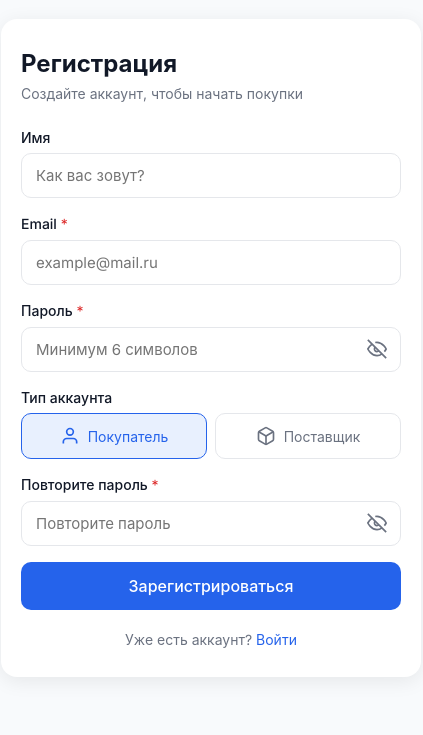
Register.vue › показывает ошибку при неудачной регистрации
Step 1. Type "test@example.com" into the field with test id "register-email" → (211, 262), box [21,240,401,285]
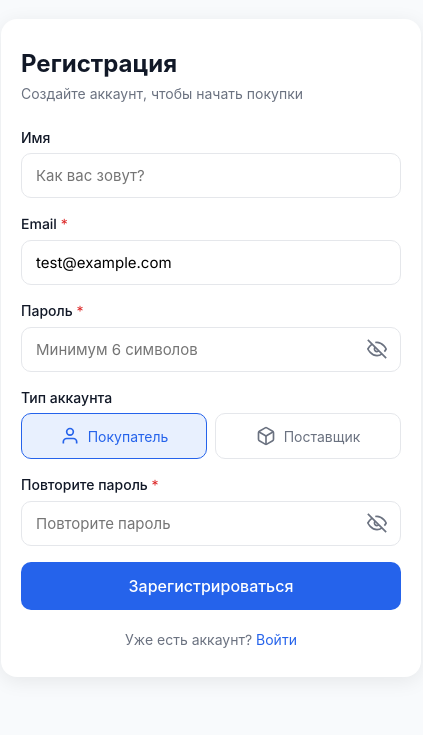
Step 2. Type "password123" into the password field with test id "register-password" → (211, 349), box [21,327,401,372]
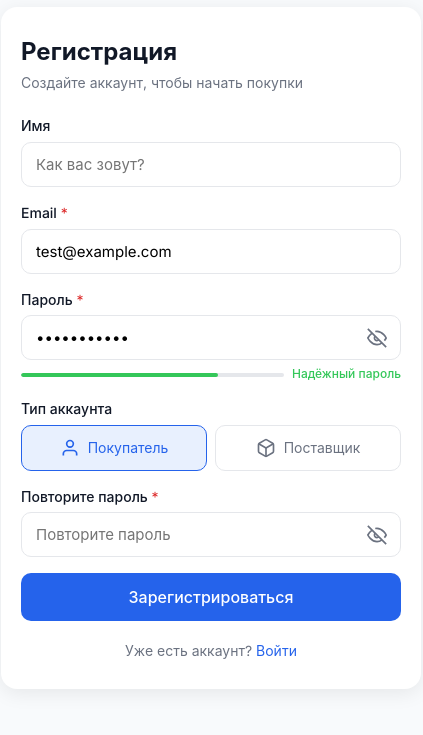
Step 3. Type "password123" into the password field with test id "register-password-confirm" → (211, 535), box [21,512,401,557]
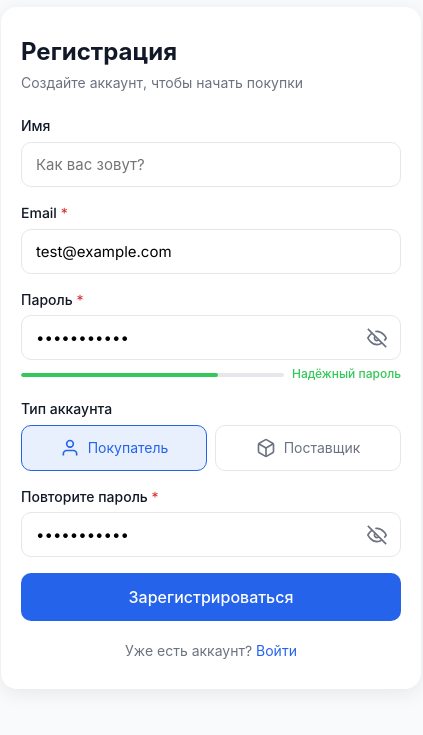
Step 4. Submit the form with test id "register-form"
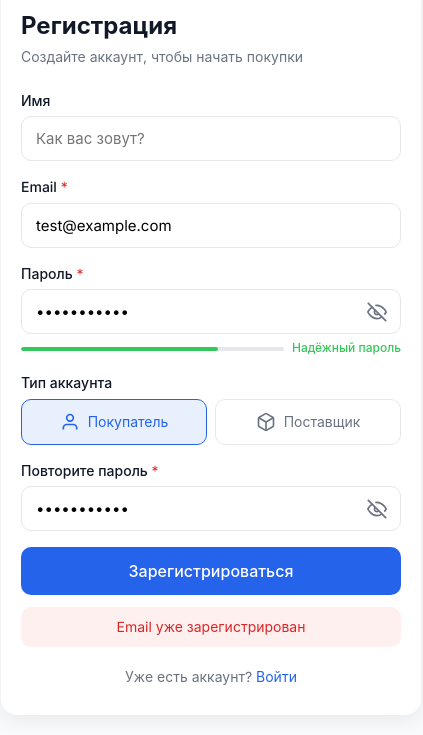
Now the text with test id "register-error" reads "Email уже зарегистрирован", box [116,618,305,635]
